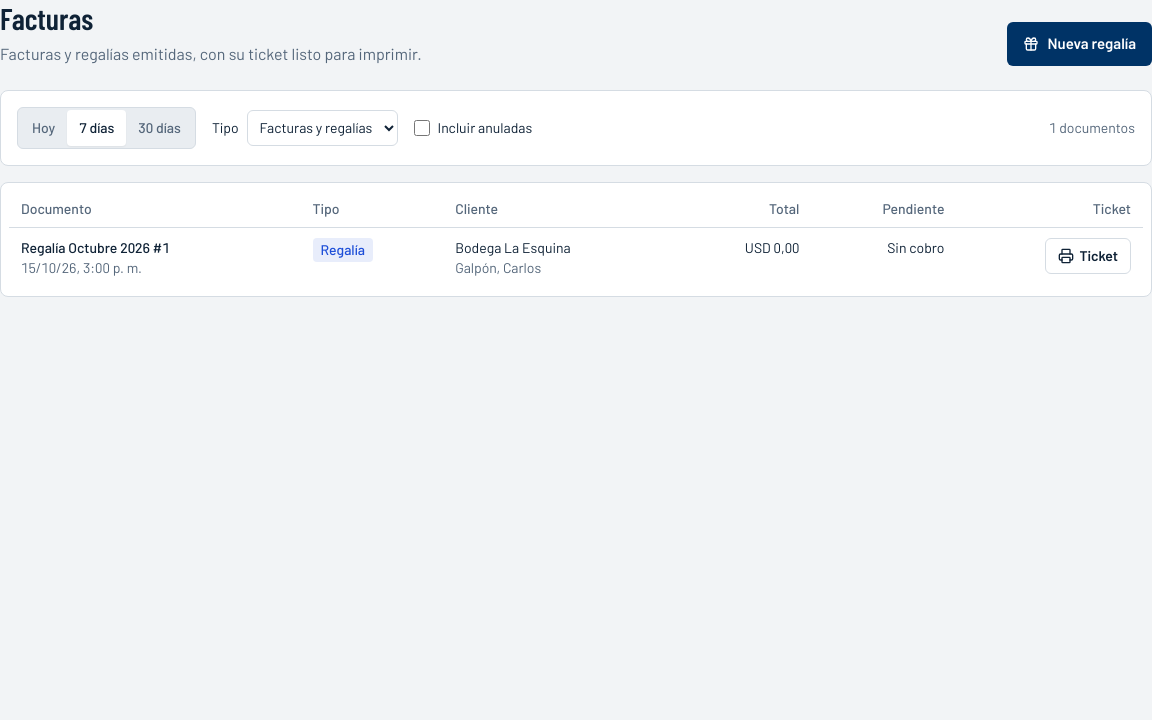
Test: Facturas › muestra el tipo "Regalía" y abre el ticket de la regalía recién registrada
This screenshot has width=1152, height=720.
Expected: the text "Regalía" is shown, [312,238,373,262]
Step 1. Click the button "Nueva regalía" → (1080, 44), box [1008,22,1151,66]
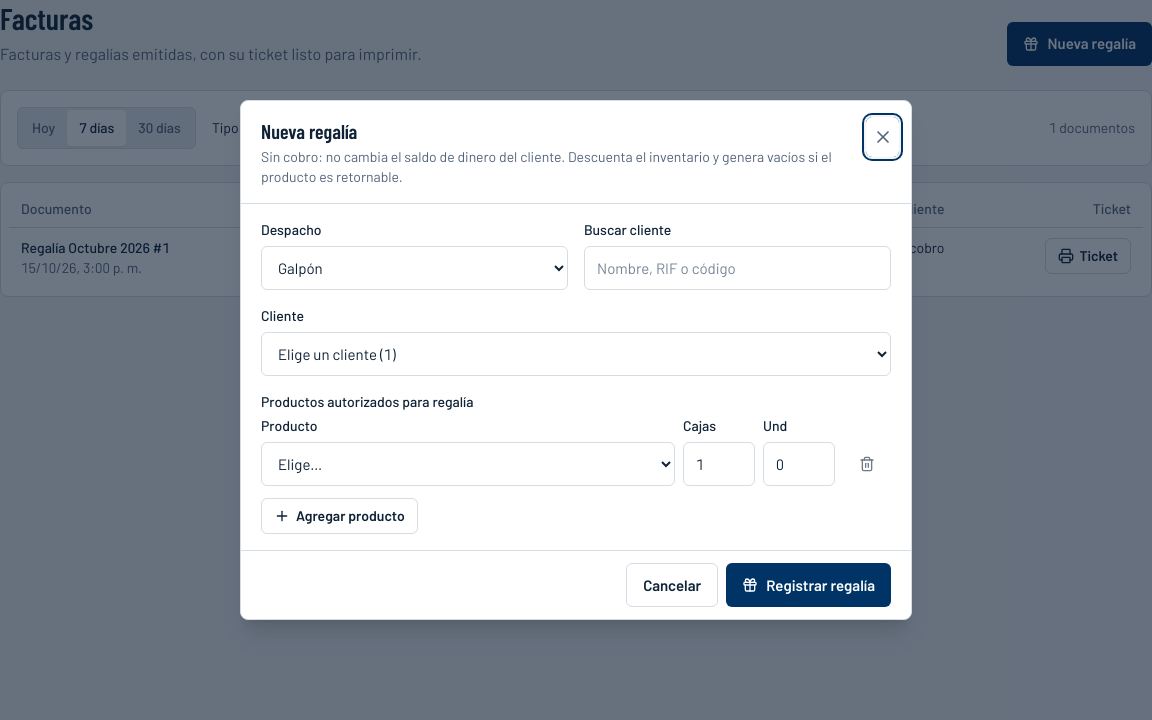
Step 2. Select "001 Bodega La Esquina" in the dropdown labelled "Cliente" → (576, 354), box [261,332,891,376]
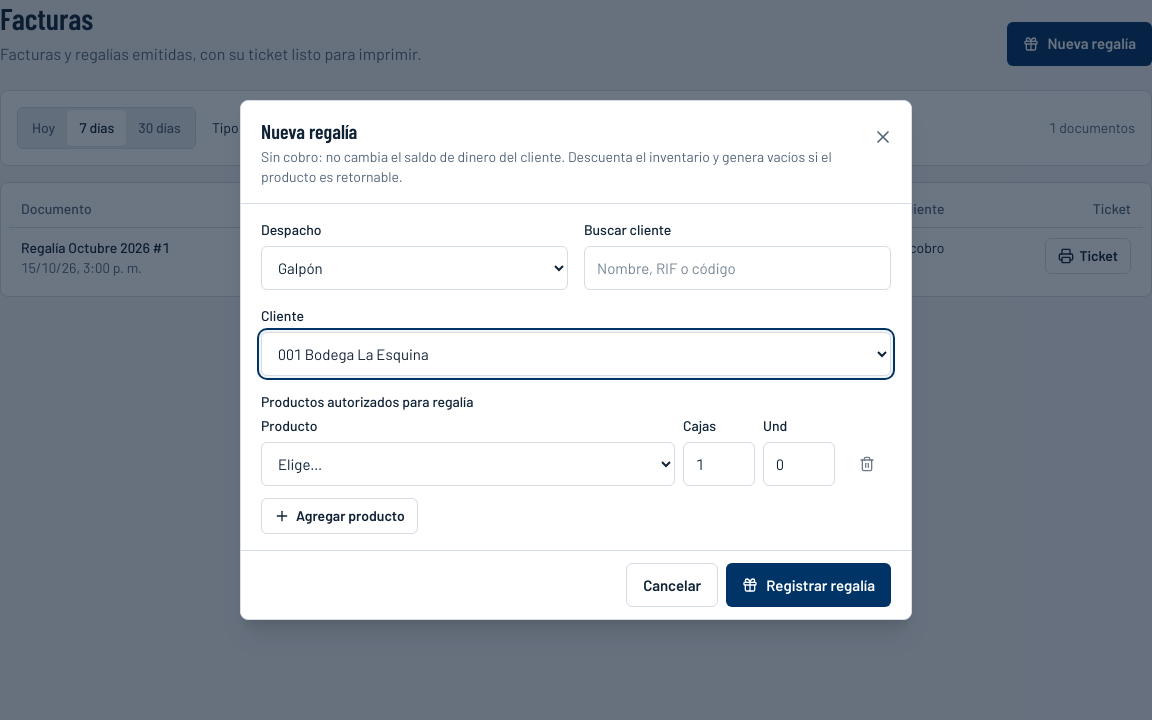
Step 3. Select "POLAR PILSEN RET 222MLx36UN (10 cajas), retornable" in the dropdown labelled "Producto" → (468, 464), box [261,442,675,486]
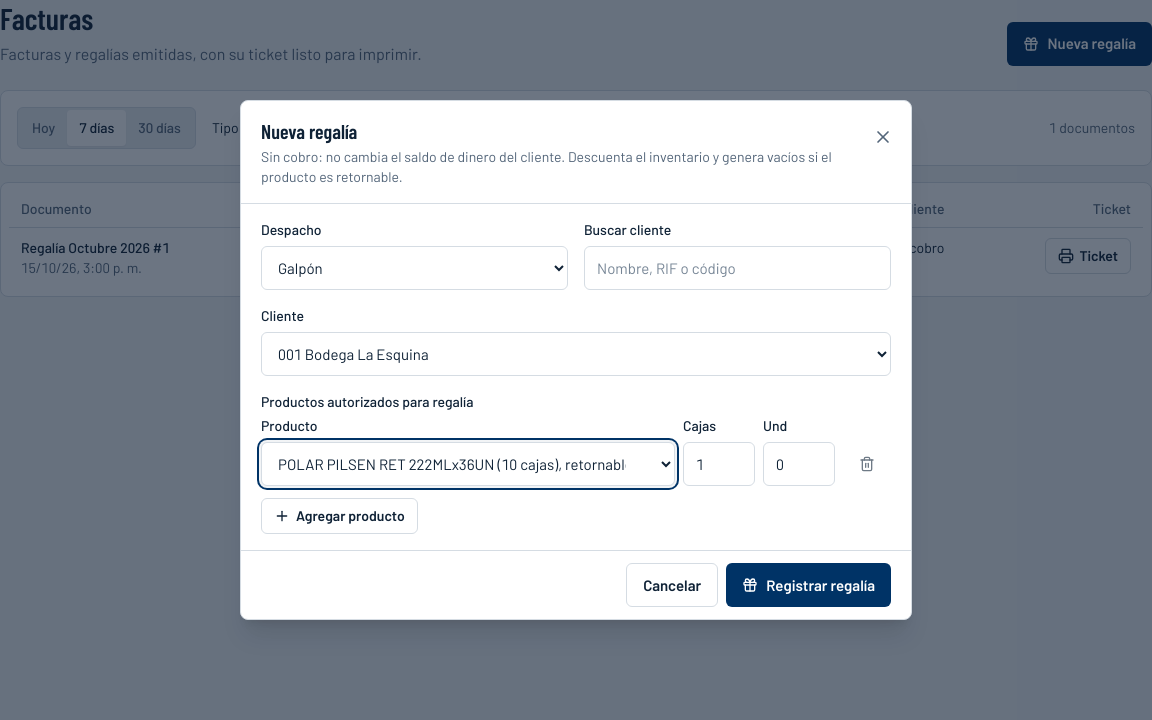
Step 4. Click the button "Registrar regalía" → (809, 585), box [726,563,891,607]
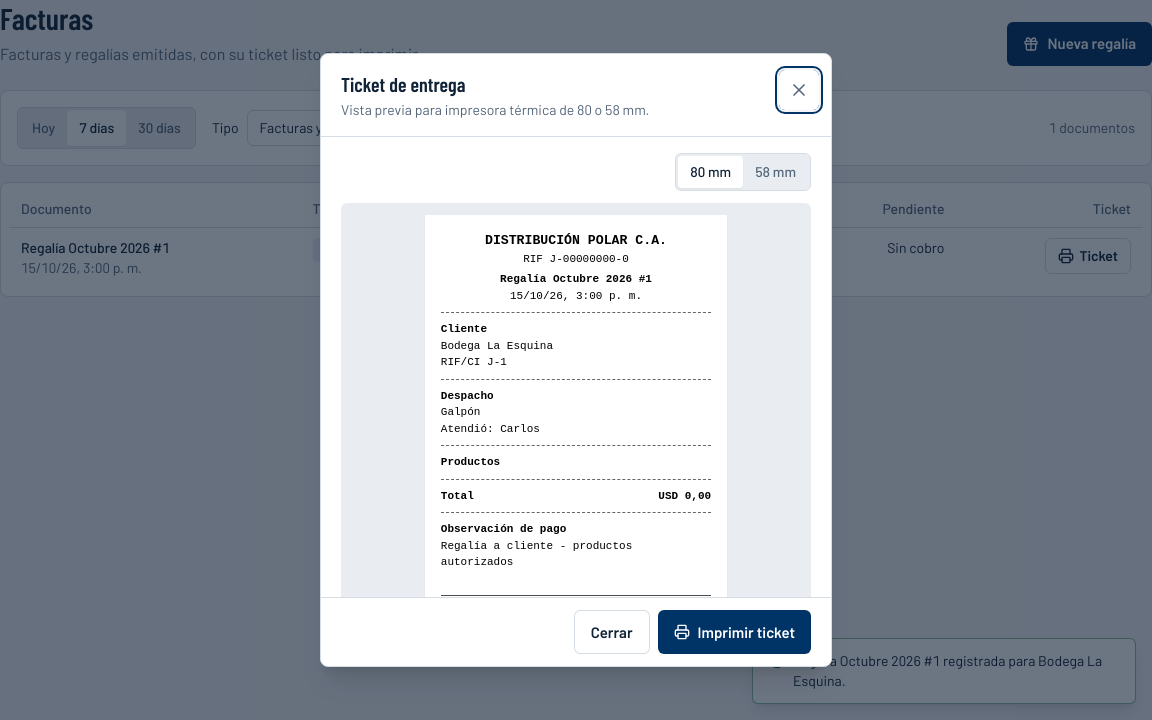
Now the text "Regalía Octubre 2026 #1 registrada para Bodega La Esquina." is shown, box [793,651,1119,691]
Now the heading "Ticket de entrega" is shown, box [341,72,465,96]
